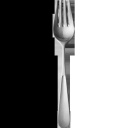Fork: (46, 1, 84, 128)
